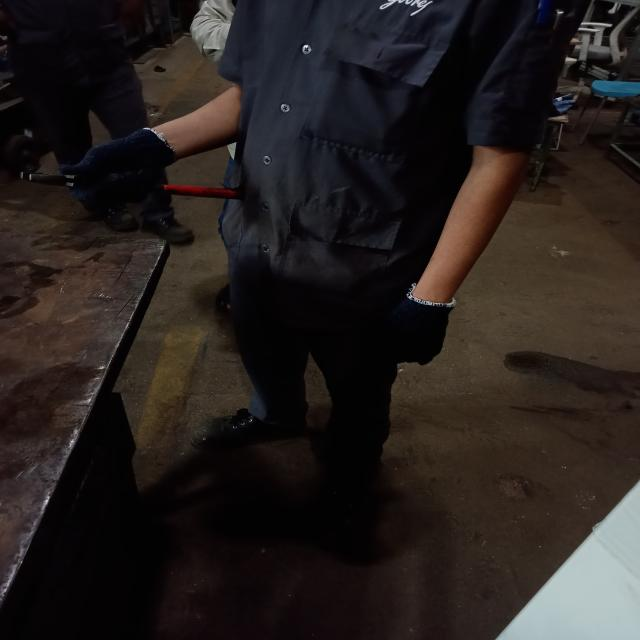Gloves-Detection: (385, 291, 454, 370)
